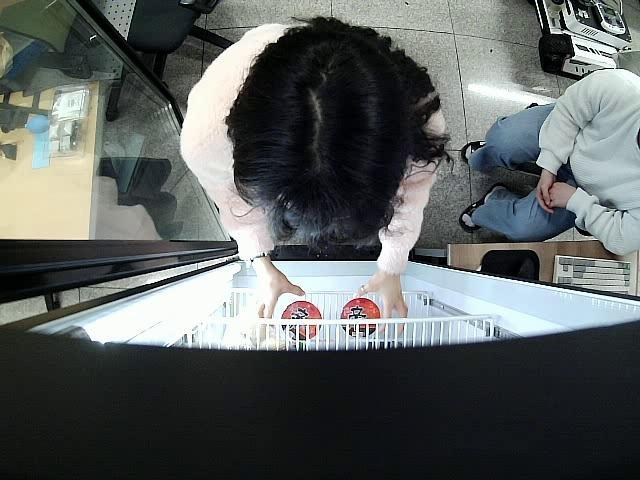02_shinRamen_S: (280, 299, 323, 342), (339, 296, 380, 338)
